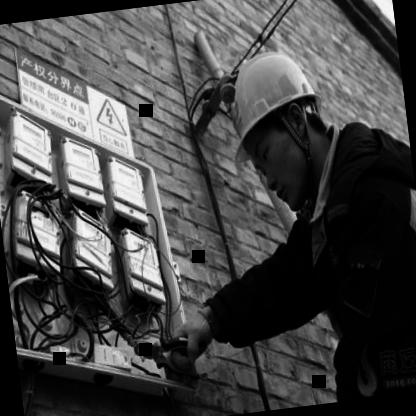helmet: (210, 30, 341, 216)
